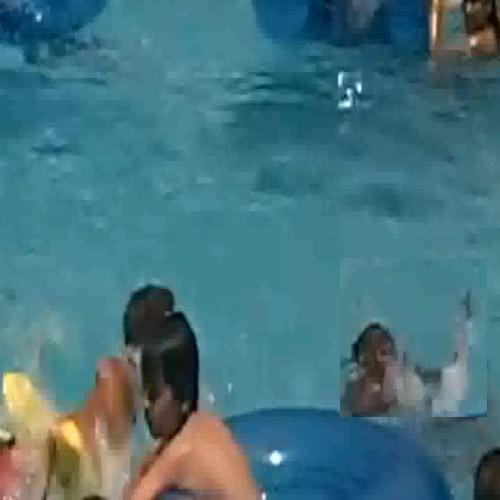drowning: (340, 258, 488, 418)
